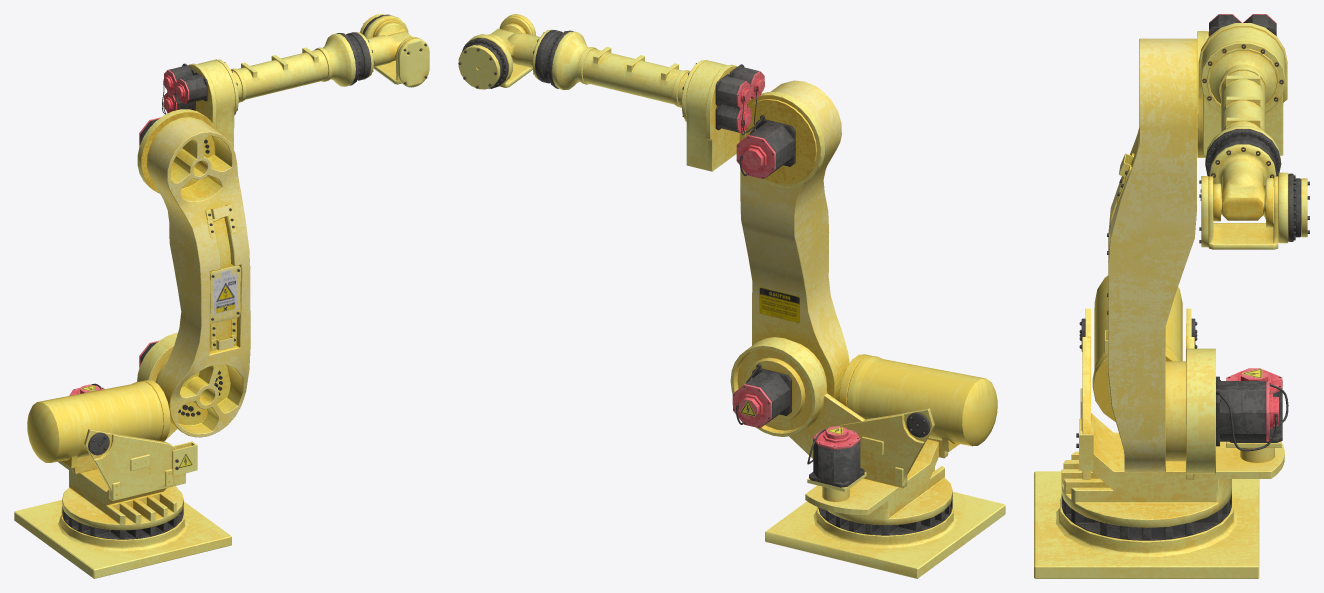
The model's file is Robot_fbx.FBX.
3 views of the same model, side by side, from view 1: azimuth 30°, elevation 25°; view 2: azimuth 150°, elevation 25°; view 3: azimuth 270°, elevation 25° (orthographic). The views are drawn at different scales.
Visible parts, largest first — view 1: UpperArm, Shoulder, ForeArm, Cylinder, Base, Finger, Hand; view 2: Shoulder, ForeArm, UpperArm, Cylinder, Base, Finger, Hand; view 3: UpperArm, Shoulder, Base, ForeArm, Hand, Finger, Cylinder.
Boxes of the visible parts, left/top/right/bottom form: UpperArm: left=147, top=117, right=250, bottom=437; Shoulder: left=58, top=332, right=197, bottom=539; ForeArm: left=137, top=33, right=355, bottom=193; Cylinder: left=27, top=380, right=170, bottom=468; Base: left=14, top=500, right=231, bottom=578; Finger: left=360, top=14, right=429, bottom=87; Hand: left=336, top=22, right=412, bottom=85; Shoulder: left=730, top=337, right=952, bottom=535; ForeArm: left=552, top=31, right=824, bottom=187; UpperArm: left=740, top=80, right=849, bottom=401; Cylinder: left=839, top=354, right=997, bottom=451; Base: left=765, top=491, right=1005, bottom=578; Finger: left=458, top=14, right=536, bottom=89; Hand: left=489, top=23, right=573, bottom=88; UpperArm: left=1104, top=38, right=1196, bottom=472; Shoulder: left=1061, top=308, right=1288, bottom=540; Base: left=1034, top=471, right=1259, bottom=578; ForeArm: left=1197, top=14, right=1287, bottom=160; Hand: left=1205, top=129, right=1281, bottom=227; Finger: left=1199, top=172, right=1309, bottom=249; Cylinder: left=1092, top=275, right=1182, bottom=421.
Bounding box in the file's own units: 242 × 227 × 97.38.
7 materials, 7 textured.
